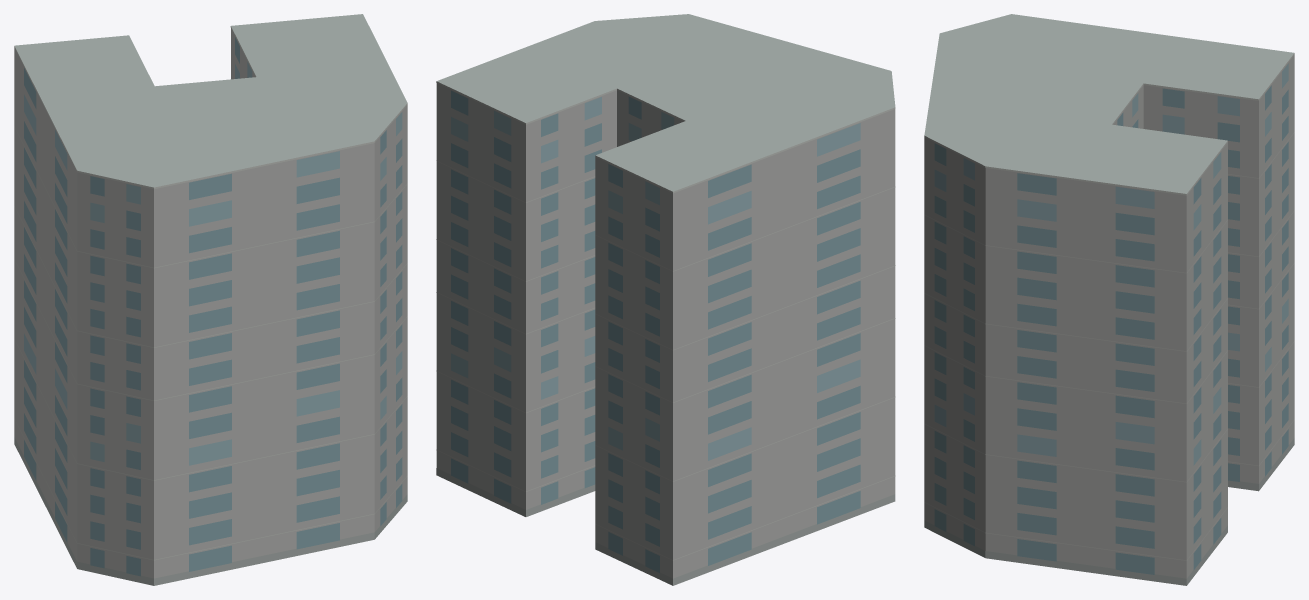
File: residential-f8fa72ad-d984-4627-a00f-5beafedb4909.glb
3 views of the same model, side by side, from view 1: azimuth 30°, elevation 25°; view 2: azimuth 150°, elevation 25°; view 3: azimuth 270°, elevation 25° (orthographic).
Visible parts, largest first — view 1: residential-f8fa72ad-d984-4627-a00f-5beafedb4909.tmp; view 2: residential-f8fa72ad-d984-4627-a00f-5beafedb4909.tmp; view 3: residential-f8fa72ad-d984-4627-a00f-5beafedb4909.tmp.
Part boxes in pixels (bbox=[...]): residential-f8fa72ad-d984-4627-a00f-5beafedb4909.tmp: bbox=[14, 14, 407, 585]; residential-f8fa72ad-d984-4627-a00f-5beafedb4909.tmp: bbox=[436, 14, 895, 585]; residential-f8fa72ad-d984-4627-a00f-5beafedb4909.tmp: bbox=[924, 14, 1294, 585].
Size of the model in its own units: 56.16 by 57 by 48.83.
